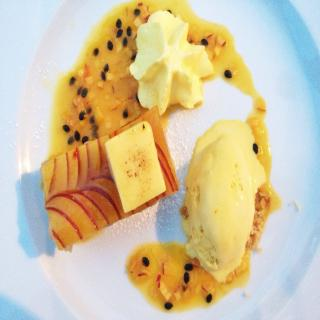Cheese: (181, 119, 268, 283), (128, 7, 216, 115), (103, 120, 168, 212)
